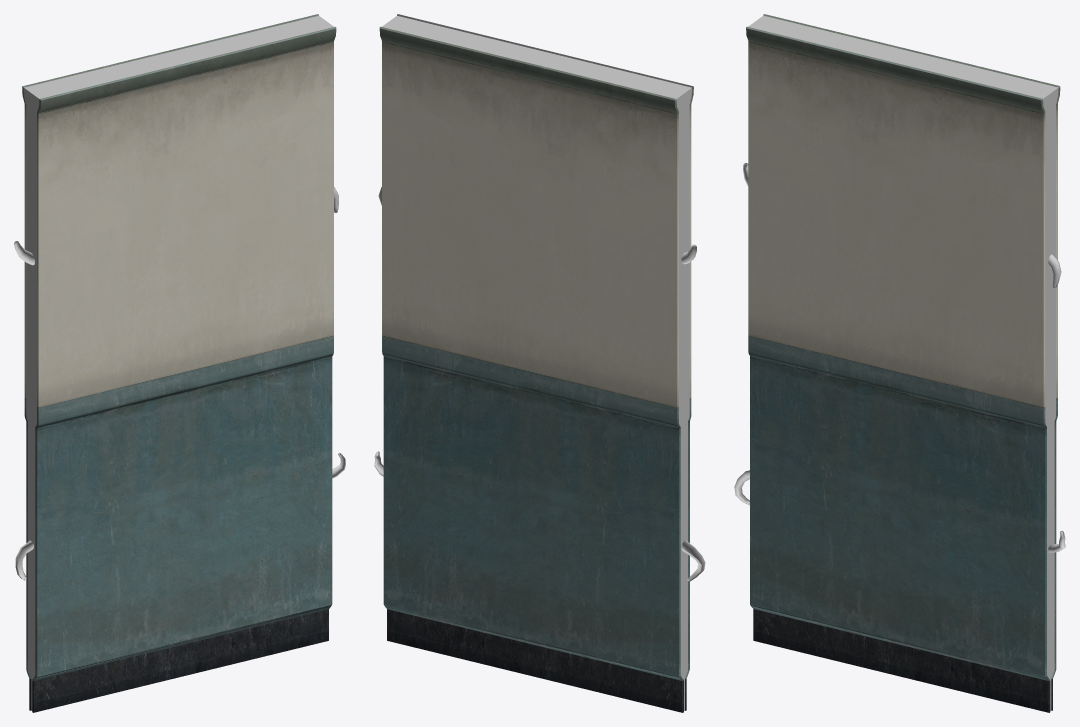
Rendered from 01_01_corridor_wall_flat_short_broken01.dae.
The picture shows the model from 3 angles, left to right: view 1: azimuth 30°, elevation 25°; view 2: azimuth 150°, elevation 25°; view 3: azimuth 330°, elevation 25°; orthographic projection.
Parts seen in each view (by area): view 1: polySurface74, polySurface72, polySurface58; view 2: polySurface74, polySurface72, polySurface58; view 3: polySurface74, polySurface72, polySurface58.
Part boxes in pixels (x1,y1,x2,y2): polySurface74: (22, 14, 336, 712); polySurface72: (24, 16, 333, 710); polySurface58: (14, 187, 345, 580); polySurface74: (379, 14, 693, 712); polySurface72: (382, 15, 691, 710); polySurface58: (374, 187, 705, 581); polySurface74: (746, 14, 1060, 712); polySurface72: (748, 15, 1058, 710); polySurface58: (734, 163, 1065, 552).
Size of the model in its own units: 2.23 by 4.01 by 0.2244.
